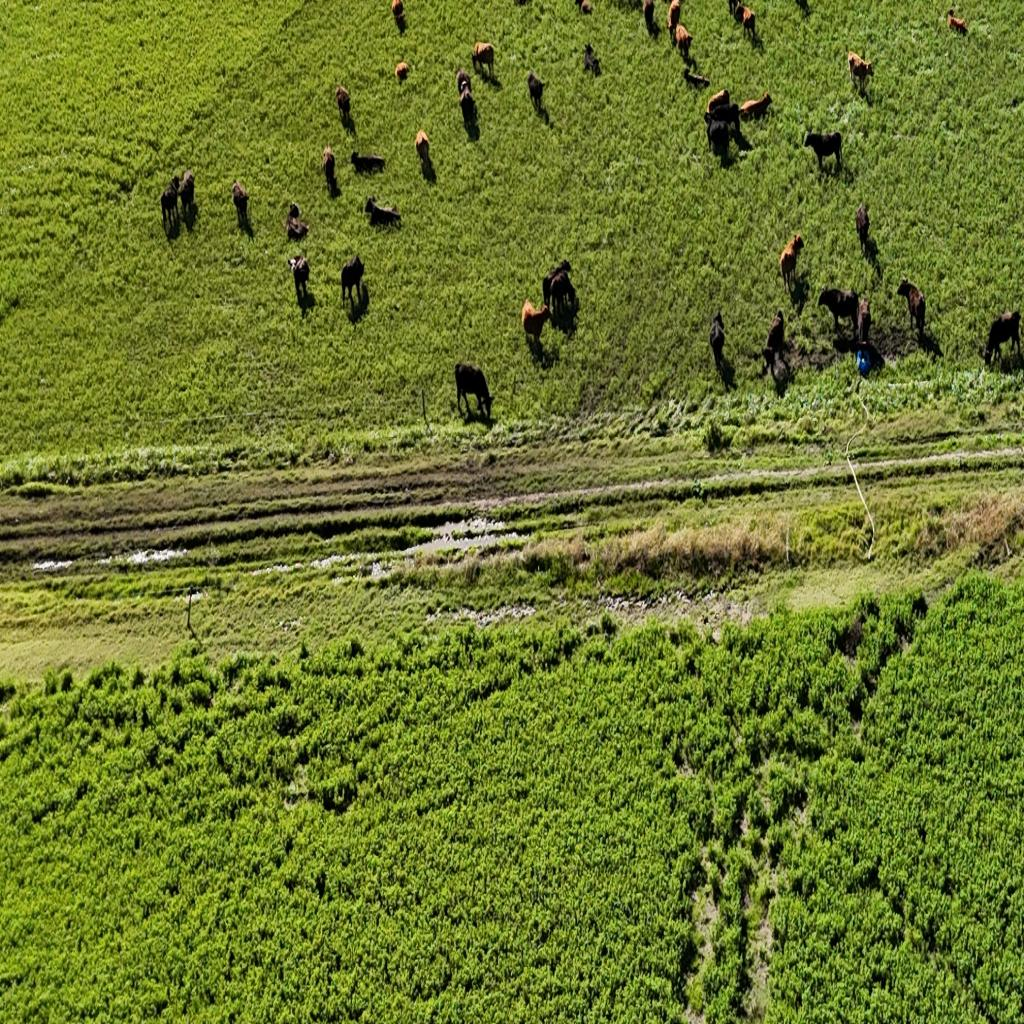cow: (454, 361, 494, 420), (984, 310, 1022, 366), (542, 261, 576, 323), (818, 286, 860, 336), (896, 280, 926, 340), (804, 130, 843, 176), (521, 298, 550, 357), (706, 100, 743, 146), (778, 234, 804, 297), (762, 310, 786, 376), (341, 252, 365, 308), (160, 175, 182, 232), (364, 195, 400, 229), (912, 322, 944, 360), (344, 282, 370, 328), (847, 50, 874, 92), (288, 254, 310, 302), (710, 311, 726, 373), (740, 91, 772, 121), (350, 150, 386, 176), (285, 204, 309, 241), (415, 130, 433, 178), (705, 88, 730, 122), (734, 3, 756, 41), (232, 179, 249, 227), (472, 41, 494, 78), (179, 168, 195, 218), (856, 203, 870, 256), (527, 69, 544, 112), (460, 84, 476, 129), (674, 22, 693, 58), (542, 269, 556, 315), (548, 258, 572, 284), (335, 84, 351, 120), (683, 67, 709, 89), (583, 43, 600, 76), (322, 146, 336, 184), (947, 10, 968, 35), (456, 68, 472, 99), (668, 0, 682, 34), (326, 170, 342, 198), (642, 0, 655, 32), (391, 0, 405, 22), (395, 61, 409, 81), (287, 202, 301, 220), (727, 0, 740, 19), (580, 0, 592, 14)
